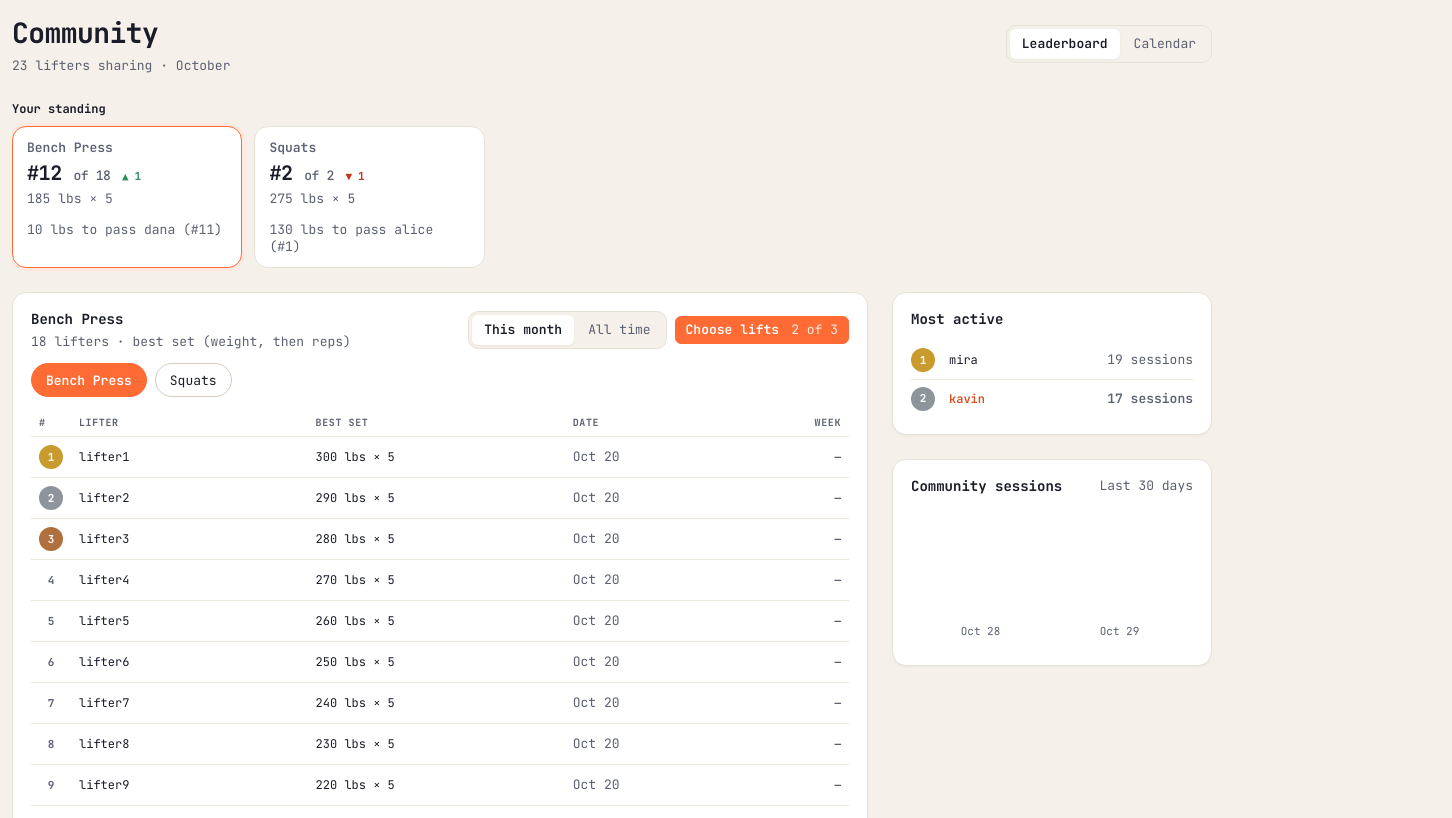
Test case: Community — lift board › drops a lift that has no board after switching period
Click the button "All time": click(619, 330) [576,315,663,345]
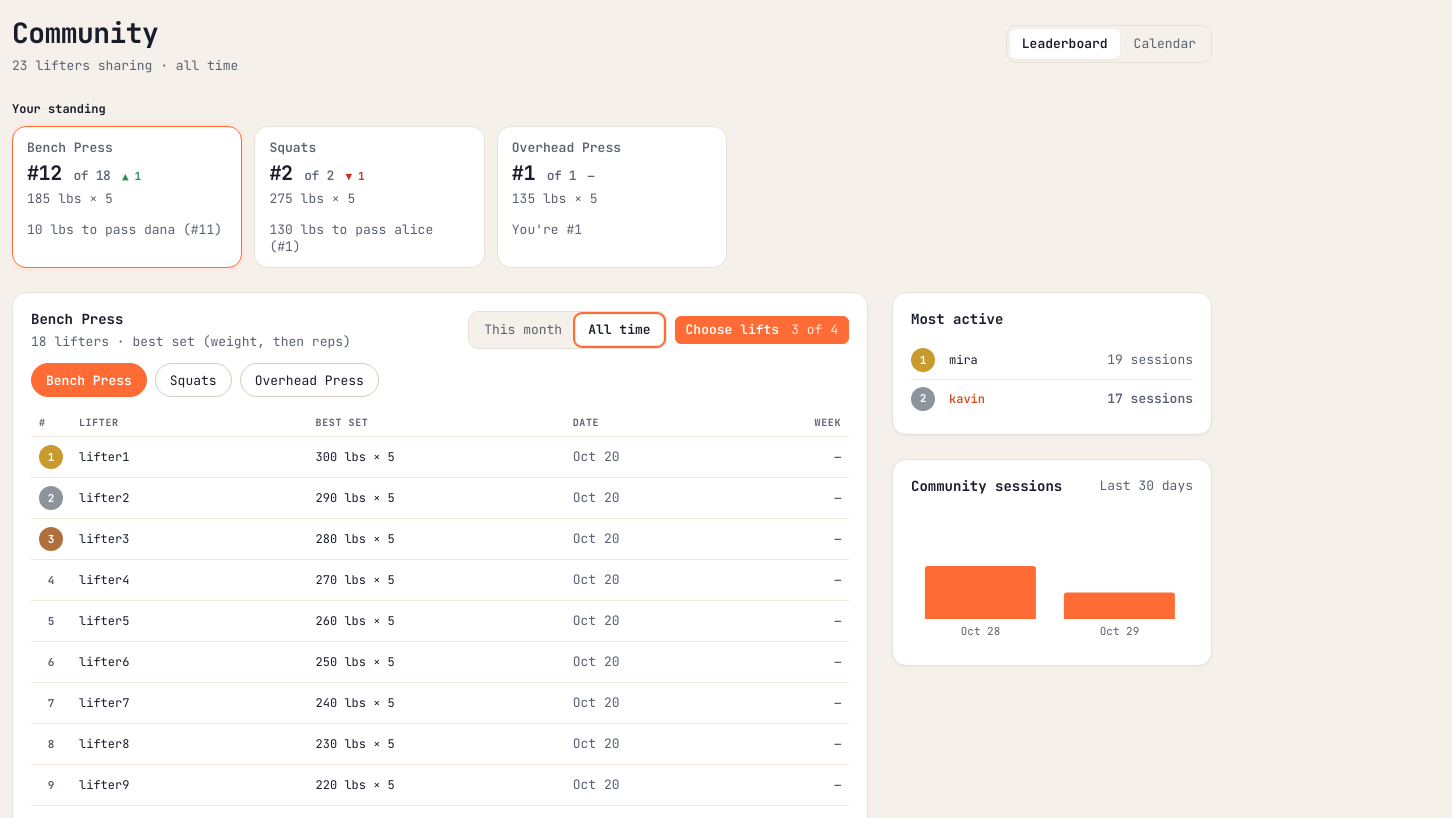
Click the button "Overhead Press #1 of 1 — 135 lbs × 5 You're #1": click(612, 196) [497,126,727,268]
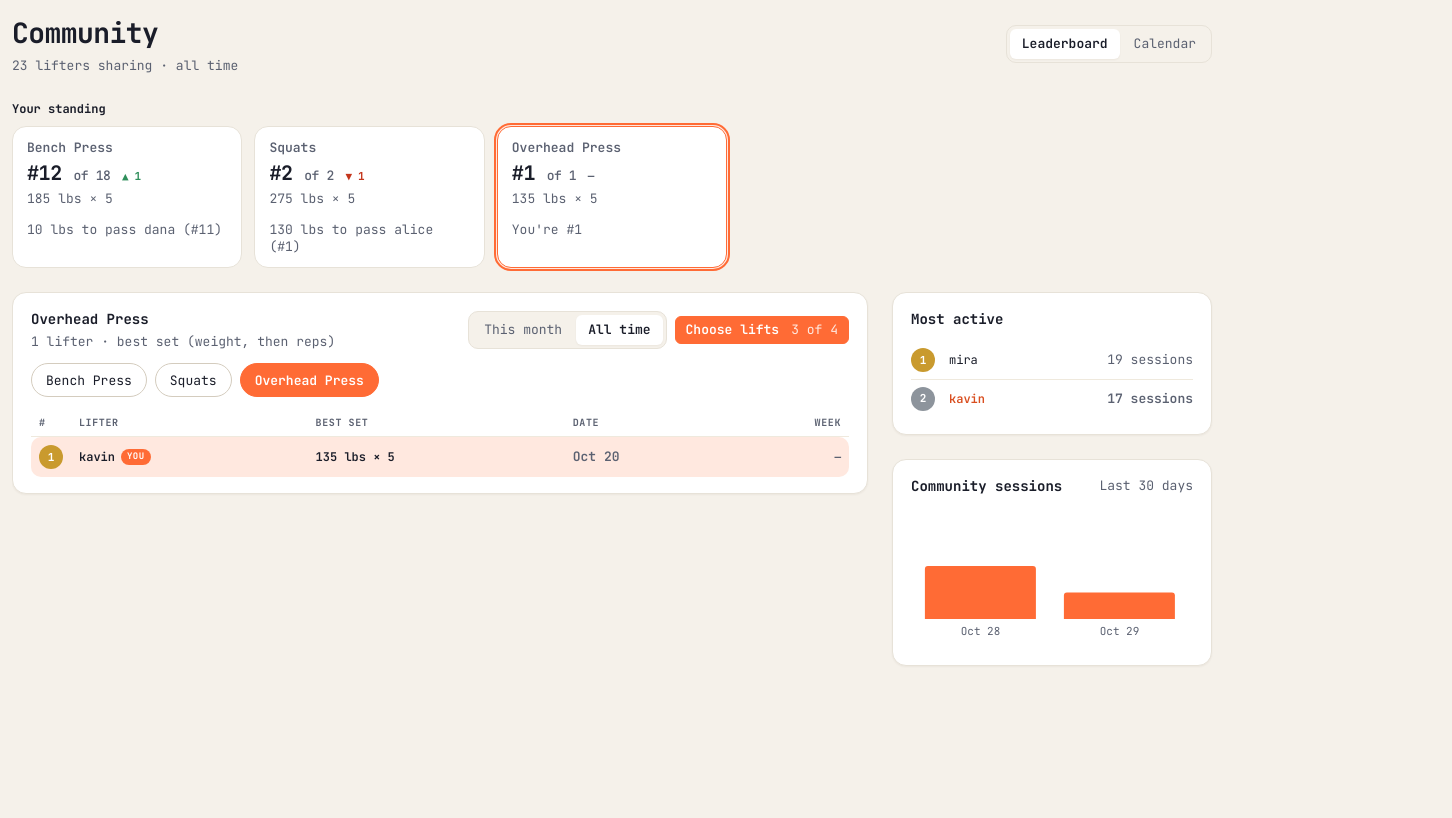
Result: the text "You're #1" is shown at [512,220,582,238]
Click the button "This month": click(523, 330) [472,315,574,345]
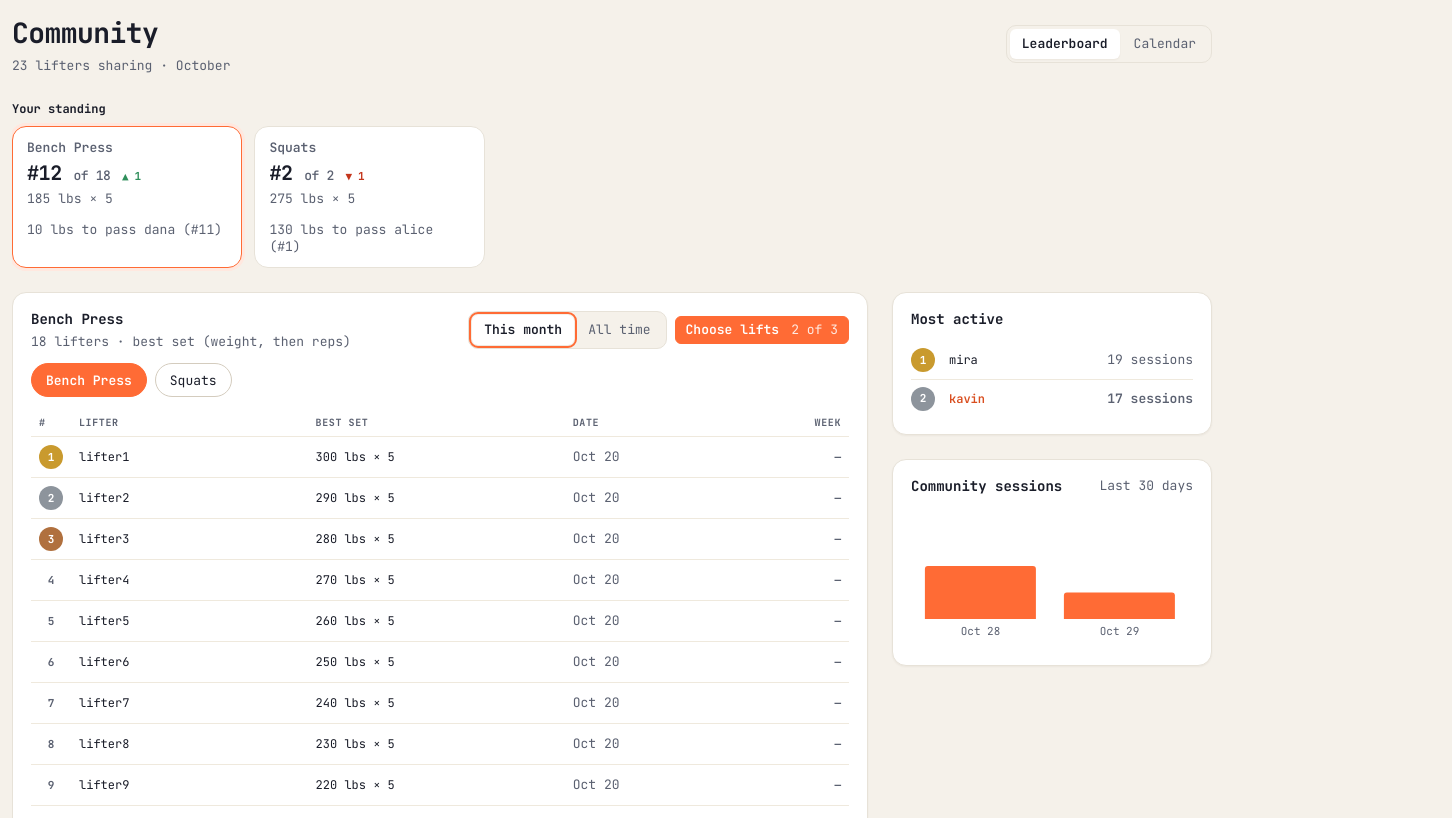
Result: the button "Overhead Press" is gone
